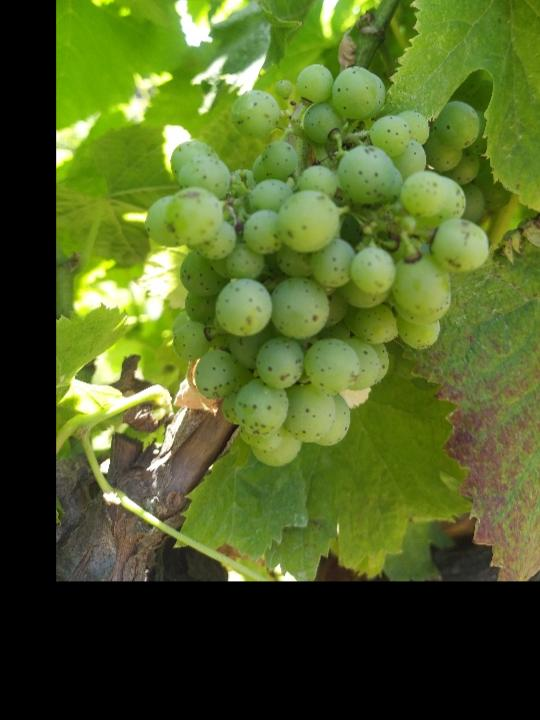grape: (139, 62, 491, 467)
